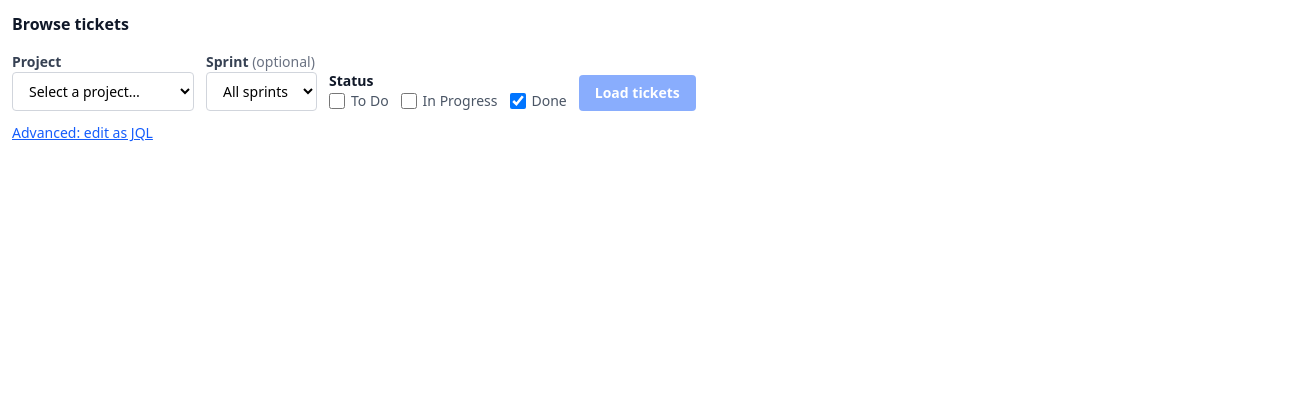
Scenario: TicketsRoute › aFreshSearchClearsThePreviousSelection
Select "CNV — Convergence" in the dropdown labelled "Project" at (103, 92), box [12,72,194,111]
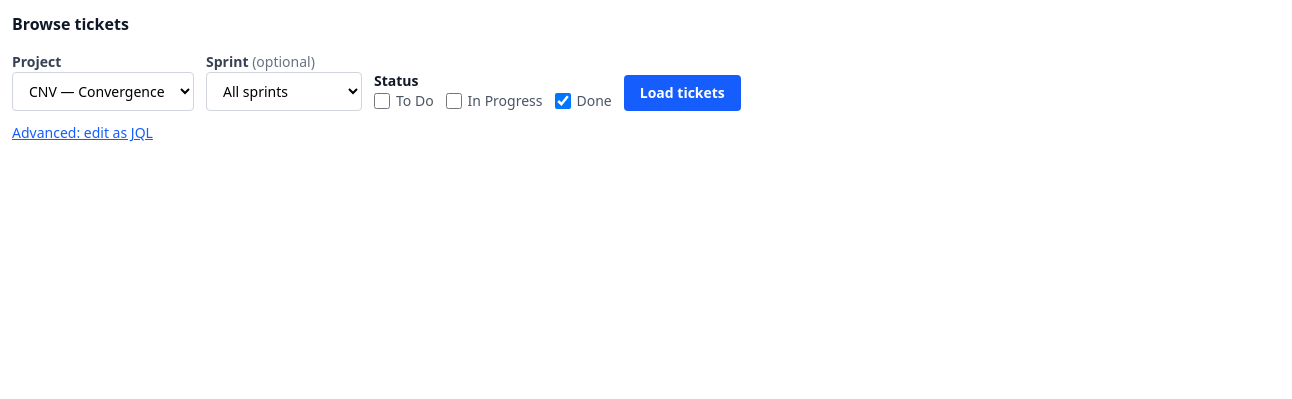
Click the button "Load tickets" at (682, 93), box [624,75,741,111]
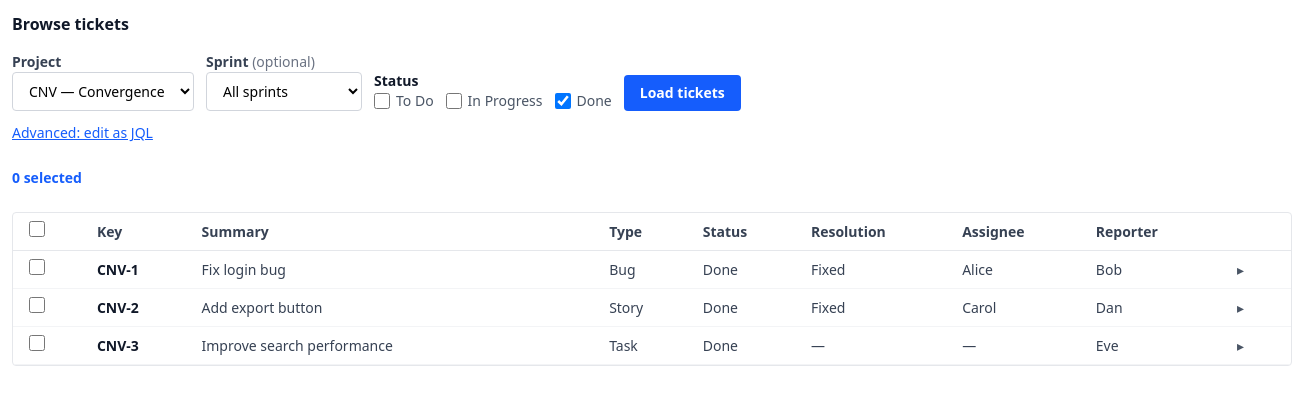
Click the checkbox named "Select ticket CNV-1" at (37, 267), box [29,259,45,275]
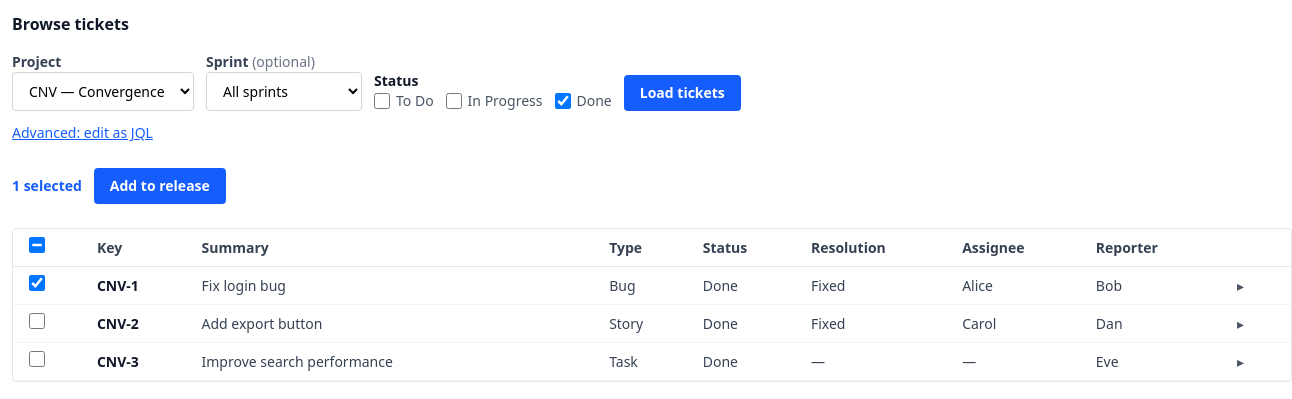
expect the message "1 selected" is shown: met, box [12,176,82,196]
Click the button "Load tickets" at (682, 93), box [624,75,741,111]
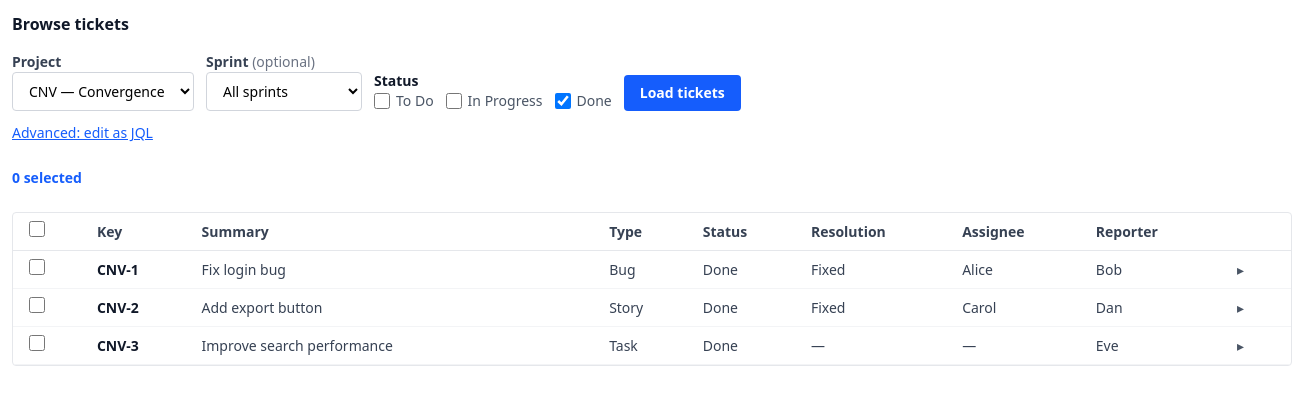
expect the message "0 selected" is shown: met, box [12,168,82,188]
